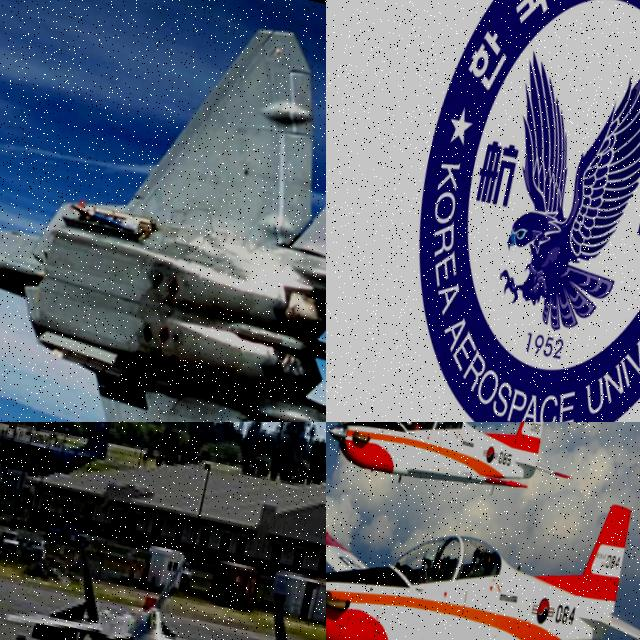F22: (0, 0, 326, 422), (3, 520, 259, 640)
KAU_Marker: (372, 0, 640, 422)
KT-1: (326, 445, 640, 640), (326, 422, 589, 513)
